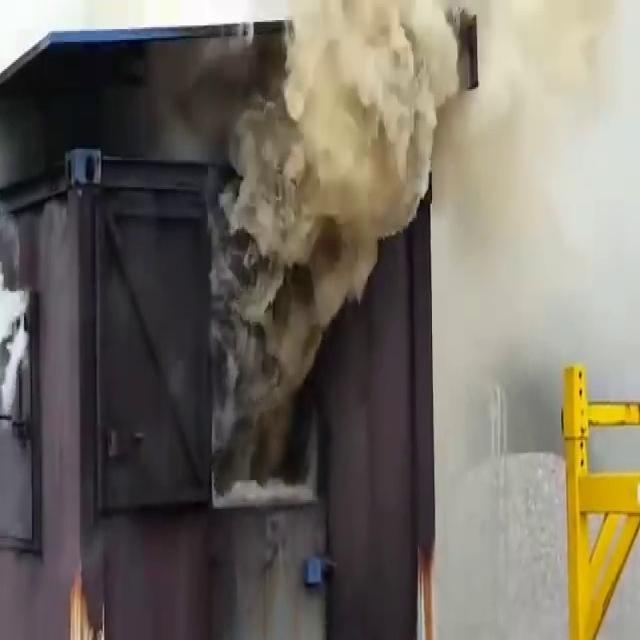Smoke: (228, 0, 397, 398)
